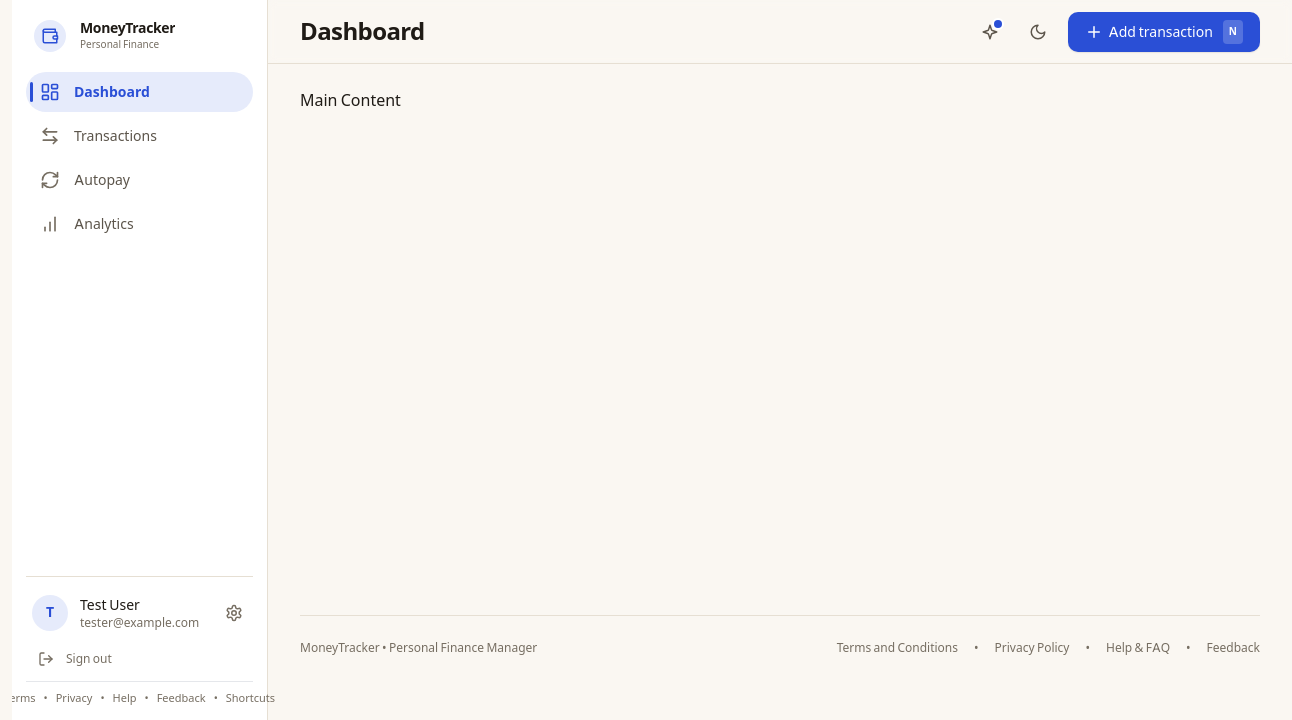
Test case: Phase 3: AppShell & Navigation › 8. Collapsible Sidebar & Gemini-Style Slim Rail › collapses sidebar to 68px slim rail and adjusts header/main when clicking collapse button
Note: Click collapse button in sidebar header
Step 1. Click the button with test id "sidebar-collapse-btn" → (50, 36), box [30,16,70,56]
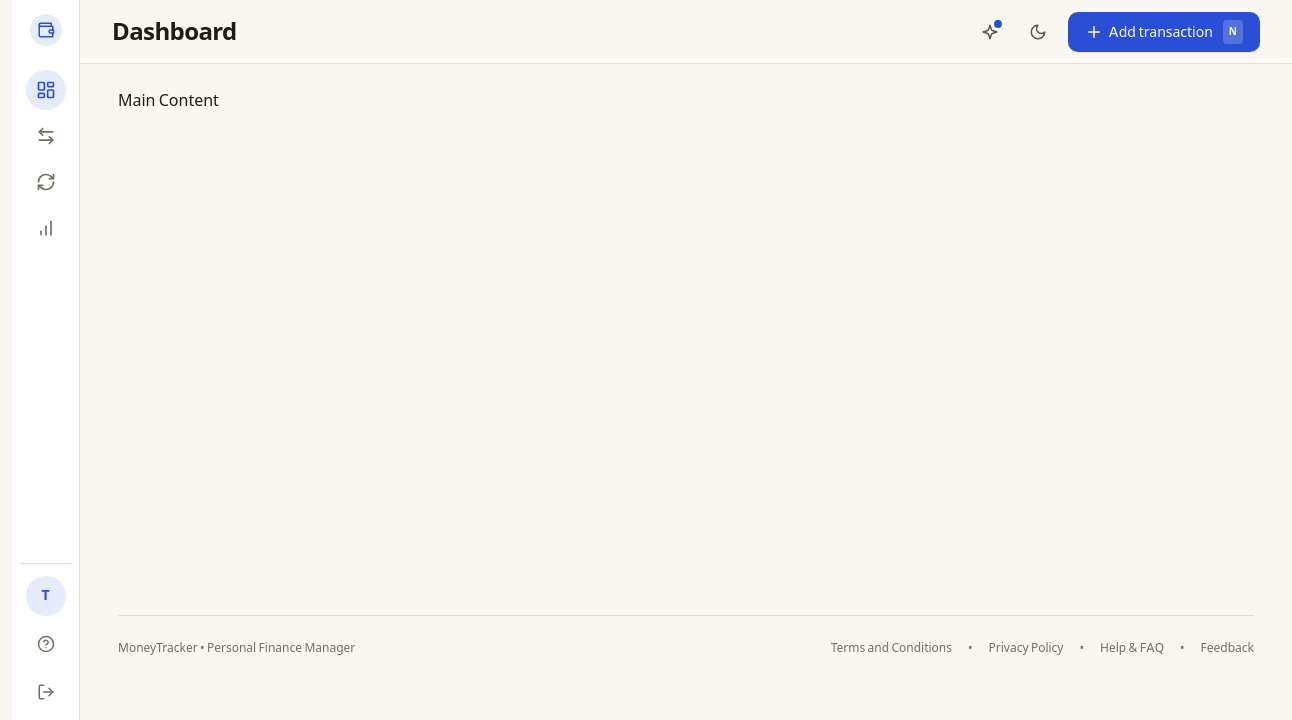
expect the element named "Desktop Sidebar" has class "w-[68px]": met, box [12,0,80,719]
expect the header named "App Header" has class "min-[1025px]:left-[68px]": met, box [80,0,1291,64]
expect the element that starts with "Main Content" has class "min-[1025px]:pl-[68px]": met
